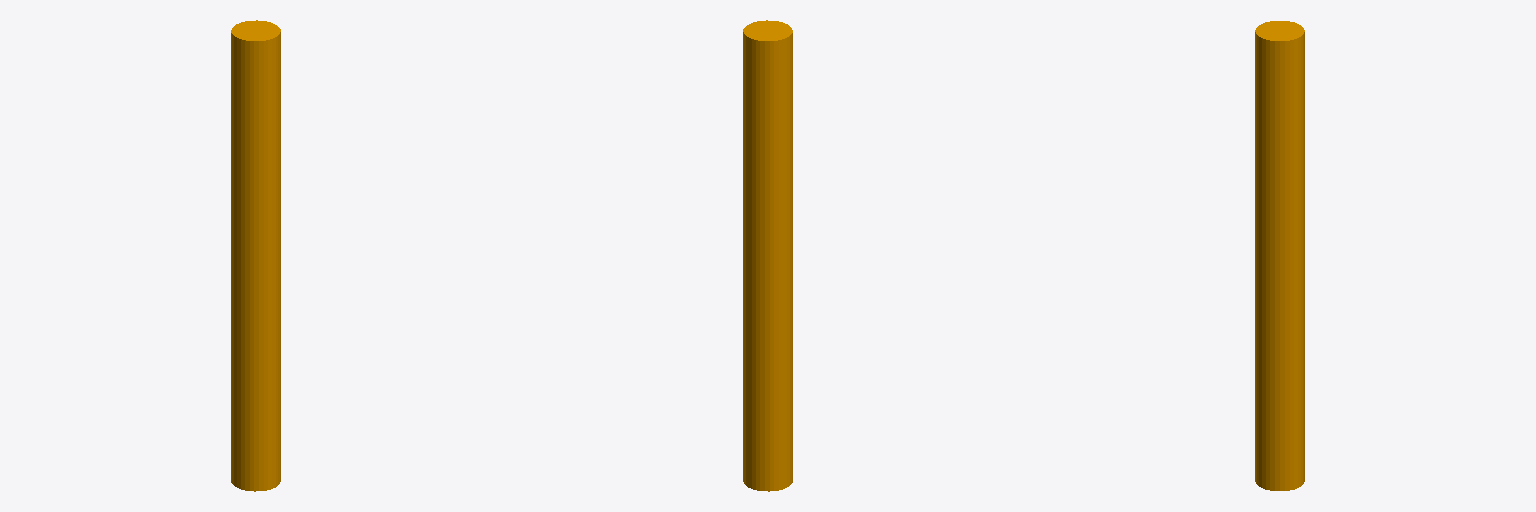
robot.urdf — lbr_iiwa:
<?xml version="1.0" ?>
<!-- ======================================================================= -->
<!-- | This document was autogenerated by xacro from lbr_iiwa.urdf.xacro   | -->
<!-- | Original xacro: https://github.com/rtkg/lbr_iiwa/archive/master.zip | -->
<!-- | EDITING THIS FILE BY HAND IS NOT RECOMMENDED                        | -->
<!-- | Changes ([author]):                                                 | -->
<!-- |   * Removed gazebo tags.                                            | -->
<!-- |   * Removed unused materials.                                       | -->
<!-- |   * Made mesh paths relative.                                       | -->
<!-- |   * Removed material fields from collision segments.                | -->
<!-- |   * Removed the self_collision_checking segment.                    | -->
<!-- |   * Removed transmission segments, since they didn't match the      | -->
<!-- |     convention, will have to added back later.                      | -->
<!-- ======================================================================= -->
<!--LICENSE:                                                                 -->
<!--Copyright (c) 2015, [author] & [author], AASS Research Center,  -->
<!--Orebro University, Sweden                                                -->
<!--All rights reserved.                                                     -->
<!--                                                                         -->
<!--Redistribution and use in source and binary forms, with or without       -->
<!--modification, are permitted provided that the following conditions are   -->
<!--met:                                                                     -->
<!--                                                                         -->
<!--1. Redistributions of source code must retain the above copyright notice,-->
<!--   this list of conditions and the following disclaimer.                 -->
<!--                                                                         -->
<!--2. Redistributions in binary form must reproduce the above copyright     -->
<!--   notice, this list of conditions and the following disclaimer in the   -->
<!--   documentation and/or other materials provided with the distribution.  -->
<!--                                                                         -->
<!--THIS SOFTWARE IS PROVIDED BY THE COPYRIGHT [author] "AS  -->
<!--IS" AND ANY EXPRESS OR IMPLIED WARRANTIES, INCLUDING, BUT NOT LIMITED TO,-->
<!--THE IMPLIED WARRANTIES OF MERCHANTABILITY AND FITNESS FOR A PARTICULAR   -->
<!--PURPOSE ARE DISCLAIMED. IN NO EVENT SHALL THE COPYRIGHT [author]        -->
<!--CONTRIBUTORS BE LIABLE FOR ANY DIRECT, INDIRECT, INCIDENTAL, SPECIAL,    -->
<!--EXEMPLARY, OR CONSEQUENTIAL DAMAGES (INCLUDING, BUT NOT LIMITED TO,      -->
<!--PROCUREMENT OF SUBSTITUTE GOODS OR SERVICES; LOSS OF USE, DATA, OR       -->
<!--PROFITS; OR BUSINESS INTERRUPTION) HOWEVER CAUSED AND ON ANY THEORY OF   -->
<!--LIABILITY, WHETHER IN CONTRACT, STRICT LIABILITY, OR TORT (INCLUDING     -->
<!--NEGLIGENCE OR OTHERWISE) ARISING IN ANY WAY OUT OF THE USE OF THIS       -->
<!--SOFTWARE, EVEN IF ADVISED OF THE POSSIBILITY OF SUCH DAMAGE.             -->
<robot name="lbr_iiwa" xmlns:xacro="http://www.ros.org/wiki/xacro">
  <!-- Import Rviz colors -->
  <material name="Grey">
    <color rgba="0.2 0.2 0.2 1.0"/>
  </material>
  <material name="Orange">
    <color rgba="1.0 0.423529411765 0.0392156862745 1.0"/>
  </material>
  <material name="Blue">
  <color rgba="0.5 0.7 1.0 1.0"/>      
</material>

  <!--Import the lbr iiwa macro -->
  <!--Import Transmissions -->
  <!--Include Utilities -->
  <!--The following macros are adapted from the LWR 4 definitions of the RCPRG - https://github.com/RCPRG-ros-pkg/lwr_robot -->
  <!--Little helper macros to define the inertia matrix needed for links.-->
  <!--Cuboid-->
  <!--Cylinder: length is along the y-axis! -->
  <!--lbr-->
  <link name="lbr_iiwa_link_0">
    <inertial>
      <origin rpy="0 0 0" xyz="-0.1 0 0.07"/>
      <!--Increase mass from 5 Kg original to provide a stable base to carry the
          arm.-->
      <mass value="0.0"/>
      <inertia ixx="0.05" ixy="0" ixz="0" iyy="0.06" iyz="0" izz="0.03"/>
    </inertial>
    <visual>
      <origin rpy="0 0 0" xyz="0 0 0"/>
      <geometry>
        <mesh filename="meshes/link_0.obj"/>
      </geometry>
      <material name="Grey"/>
    </visual>
    <collision>
      <origin rpy="0 0 0" xyz="0 0 0"/>
      <geometry>
        <mesh filename="meshes/link_0.stl"/>
      </geometry>
    </collision>
  </link>
  <!-- joint between link_0 and link_1 -->
  <joint name="lbr_iiwa_joint_1" type="revolute">
    <parent link="lbr_iiwa_link_0"/>
    <child link="lbr_iiwa_link_1"/>
    <origin rpy="0 0 0" xyz="0 0 0.1575"/>
    <axis xyz="0 0 1"/>
    <limit effort="300" lower="-2.96705972839" upper="2.96705972839" velocity="10"/>
    <dynamics damping="0.5"/>
  </joint>
  <link name="lbr_iiwa_link_1">
    <inertial>
      <origin rpy="0 0 0" xyz="0 -0.03 0.12"/>
      <mass value="4"/>
      <inertia ixx="0.1" ixy="0" ixz="0" iyy="0.09" iyz="0" izz="0.02"/>
    </inertial>
    <visual>
      <origin rpy="0 0 0" xyz="0 0 0"/>
      <geometry>
        <mesh filename="meshes/link_1.obj"/>
      </geometry>
      <material name="Blue"/>
    </visual>
    <collision>
      <origin rpy="0 0 0" xyz="0 0 0"/>
      <geometry>
        <mesh filename="meshes/link_1.stl"/>
      </geometry>
    </collision>
  </link>
  <!-- joint between link_1 and link_2 -->
  <joint name="lbr_iiwa_joint_2" type="revolute">
    <parent link="lbr_iiwa_link_1"/>
    <child link="lbr_iiwa_link_2"/>
    <origin rpy="1.57079632679   0 3.14159265359" xyz="0 0 0.2025"/>
    <axis xyz="0 0 1"/>
    <limit effort="300" lower="-2.09439510239" upper="2.09439510239" velocity="10"/>
    <dynamics damping="0.5"/>
  </joint>
  <link name="lbr_iiwa_link_2">
    <inertial>
      <origin rpy="0 0 0" xyz="0.0003 0.059 0.042"/>
      <mass value="4"/>
      <inertia ixx="0.05" ixy="0" ixz="0" iyy="0.018" iyz="0" izz="0.044"/>
    </inertial>
    <visual>
      <origin rpy="0 0 0" xyz="0 0 0"/>
      <geometry>
        <mesh filename="meshes/link_2.obj"/>
      </geometry>
      <material name="Blue"/>
    </visual>
    <collision>
      <origin rpy="0 0 0" xyz="0 0 0"/>
      <geometry>
        <mesh filename="meshes/link_2.stl"/>
      </geometry>
    </collision>
  </link>
  <!-- joint between link_2 and link_3 -->
  <joint name="lbr_iiwa_joint_3" type="revolute">
    <parent link="lbr_iiwa_link_2"/>
    <child link="lbr_iiwa_link_3"/>
    <origin rpy="1.57079632679 0 3.14159265359" xyz="0 0.2045 0"/>
    <axis xyz="0 0 1"/>
    <limit effort="300" lower="-2.96705972839" upper="2.96705972839" velocity="10"/>
    <dynamics damping="0.5"/>
  </joint>
  <link name="lbr_iiwa_link_3">
    <inertial>
      <origin rpy="0 0 0" xyz="0 0.03 0.13"/>
      <mass value="3"/>
      <inertia ixx="0.08" ixy="0" ixz="0" iyy="0.075" iyz="0" izz="0.01"/>
    </inertial>
    <visual>
      <origin rpy="0 0 0" xyz="0 0 0"/>
      <geometry>
        <mesh filename="meshes/link_3.obj"/>
      </geometry>
      <material name="Orange"/>
    </visual>
    <collision>
      <origin rpy="0 0 0" xyz="0 0 0"/>
      <geometry>
        <mesh filename="meshes/link_3.stl"/>
      </geometry>
    </collision>
  </link>
  <!-- joint between link_3 and link_4 -->
  <joint name="lbr_iiwa_joint_4" type="revolute">
    <parent link="lbr_iiwa_link_3"/>
    <child link="lbr_iiwa_link_4"/>
    <origin rpy="1.57079632679 0 0" xyz="0 0 0.2155"/>
    <axis xyz="0 0 1"/>
    <limit effort="300" lower="-2.09439510239" upper="2.09439510239" velocity="10"/>
    <dynamics damping="0.5"/>
  </joint>
  <link name="lbr_iiwa_link_4">
    <inertial>
      <origin rpy="0 0 0" xyz="0 0.067 0.034"/>
      <mass value="2.7"/>
      <inertia ixx="0.03" ixy="0" ixz="0" iyy="0.01" iyz="0" izz="0.029"/>
    </inertial>
    <visual>
      <origin rpy="0 0 0" xyz="0 0 0"/>
      <geometry>
        <mesh filename="meshes/link_4.obj"/>
      </geometry>
      <material name="Blue"/>
    </visual>
    <collision>
      <origin rpy="0 0 0" xyz="0 0 0"/>
      <geometry>
        <mesh filename="meshes/link_4.stl"/>
      </geometry>
    </collision>
  </link>
  <!-- joint between link_4 and link_5 -->
  <joint name="lbr_iiwa_joint_5" type="revolute">
    <parent link="lbr_iiwa_link_4"/>
    <child link="lbr_iiwa_link_5"/>
    <origin rpy="-1.57079632679 3.14159265359 0" xyz="0 0.1845 0"/>
    <axis xyz="0 0 1"/>
    <limit effort="300" lower="-2.96705972839" upper="2.96705972839" velocity="10"/>
    <dynamics damping="0.5"/>
  </joint>
  <link name="lbr_iiwa_link_5">
    <inertial>
      <origin rpy="0 0 0" xyz="0.0001 0.021 0.076"/>
      <mass value="1.7"/>
      <inertia ixx="0.02" ixy="0" ixz="0" iyy="0.018" iyz="0" izz="0.005"/>
    </inertial>
    <visual>
      <origin rpy="0 0 0" xyz="0 0 0"/>
      <geometry>
        <mesh filename="meshes/link_5.obj"/>
      </geometry>
      <material name="Blue"/>
    </visual>
    <collision>
      <origin rpy="0 0 0" xyz="0 0 0"/>
      <geometry>
        <mesh filename="meshes/link_5.stl"/>
      </geometry>
    </collision>
  </link>
  <!-- joint between link_5 and link_6 -->
  <joint name="lbr_iiwa_joint_6" type="revolute">
    <parent link="lbr_iiwa_link_5"/>
    <child link="lbr_iiwa_link_6"/>
    <origin rpy="1.57079632679 0 0" xyz="0 0 0.2155"/>
    <axis xyz="0 0 1"/>
    <limit effort="300" lower="-2.09439510239" upper="2.09439510239" velocity="10"/>
    <dynamics damping="0.5"/>
  </joint>
  <link name="lbr_iiwa_link_6">
    <inertial>
      <origin rpy="0 0 0" xyz="0 0.0006 0.0004"/>
      <mass value="1.8"/>
      <inertia ixx="0.005" ixy="0" ixz="0" iyy="0.0036" iyz="0" izz="0.0047"/>
    </inertial>
    <visual>
      <origin rpy="0 0 0" xyz="0 0 0"/>
      <geometry>
        <mesh filename="meshes/link_6.obj"/>
      </geometry>
      <material name="Orange"/>
    </visual>
    <collision>
      <origin rpy="0 0 0" xyz="0 0 0"/>
      <geometry>
        <mesh filename="meshes/link_6.stl"/>
      </geometry>
    </collision>
  </link>
  <!-- joint between link_6 and link_7 -->
  <joint name="lbr_iiwa_joint_7" type="revolute">
    <parent link="lbr_iiwa_link_6"/>
    <child link="lbr_iiwa_link_7"/>
    <origin rpy="-1.57079632679 3.14159265359 0" xyz="0 0.081 0"/>
    <axis xyz="0 0 1"/>
    <limit effort="300" lower="-3.05432619099" upper="3.05432619099" velocity="10"/>
    <dynamics damping="0.5"/>
  </joint>
  <link name="lbr_iiwa_link_7">
    <inertial>
      <origin rpy="0 0 0" xyz="0 0 0.02"/>
      <mass value="0.3"/>
      <inertia ixx="0.001" ixy="0" ixz="0" iyy="0.001" iyz="0" izz="0.001"/>
    </inertial>
    <visual>
      <origin rpy="0 0 0" xyz="0 0 0"/>
      <geometry>
        <mesh filename="meshes/link_7.obj"/>
      </geometry>
      <material name="Grey"/>
    </visual>
    <collision>
      <origin rpy="0 0 0" xyz="0 0 0"/>
      <geometry>
        <mesh filename="meshes/link_7.stl"/>
      </geometry>
    </collision>
  </link>

  <link name="printing_tip">
    <visual>
      <origin rpy="0 0 0" xyz="0 0 0"/>
      <geometry>
  	<cylinder radius=".005" length=".1" />
      </geometry>
    </visual>
    <collision>
      <origin rpy="0 0 0" xyz="0 0 0"/>
      <geometry>
  	<cylinder radius=".025" length=".1"/>
      </geometry>
    </collision>
    <inertial>
      <origin rpy="0 0 0" xyz="0 0 0.05"/>
      <mass value="0.0"/>
      <inertia ixx="0.0" ixy="0" ixz="0" iyy="0.0" iyz="0" izz="0.0"/>
    </inertial>
  </link>

  <joint name="joint_printing_tip" type="fixed">
    <parent link="lbr_iiwa_link_7"/>
    <child link="printing_tip"/>
    <origin rpy="0 0 0" xyz="0.0 0.0 0.1"/>
  </joint>
  
</robot>

--- Render facts (derived) ---
3 views of the same robot in one strip: view 1: azimuth 30°, elevation 25°; view 2: azimuth 150°, elevation 25°; view 3: azimuth 270°, elevation 25° (orthographic).
Robot: lbr_iiwa — 9 links, 8 joints (7 revolute, 1 fixed); root link lbr_iiwa_link_0; default pose: every joint at zero.
Links seen in each view (by area): view 1: printing_tip; view 2: printing_tip; view 3: printing_tip.
Link boxes in pixels (x1,y1,x2,y2): printing_tip: [231, 20, 280, 491]; printing_tip: [743, 20, 792, 491]; printing_tip: [1255, 21, 1304, 490].
Bounding box of the posed robot: 0.01 × 0.01 × 0.1 m (x, y, z).
0 mesh visuals loaded from 8 distinct referenced files (none loaded); not drawn: 8 (reference not matched to a file when rendering).